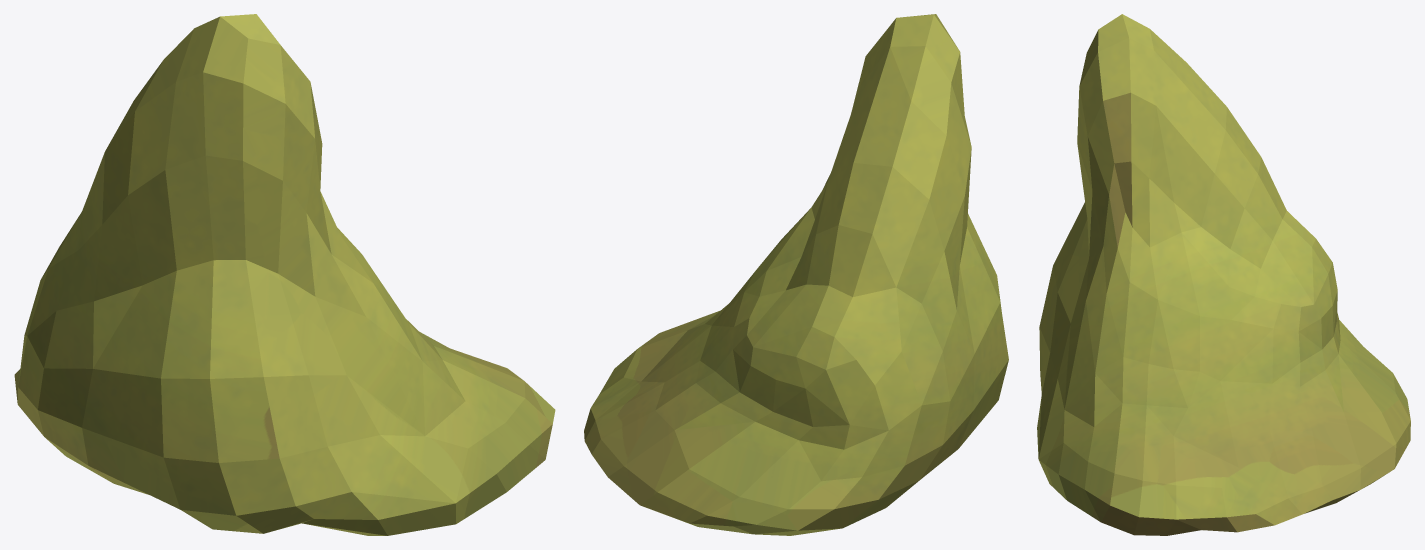
File: spikyRock5.fbx
3 renders of one model, left to right at view 1: azimuth 30°, elevation 25°; view 2: azimuth 150°, elevation 25°; view 3: azimuth 270°, elevation 25°, orthographic. The views are drawn at different scales.
Parts seen in each view (by area): view 1: spikeRock3; view 2: spikeRock3; view 3: spikeRock3.
Part boxes in pixels (x1,y1,x2,y2): spikeRock3: (14, 14, 555, 535); spikeRock3: (584, 14, 1008, 535); spikeRock3: (1037, 14, 1410, 535).
Bounding box in the file's own units: 423 × 483 × 397.
